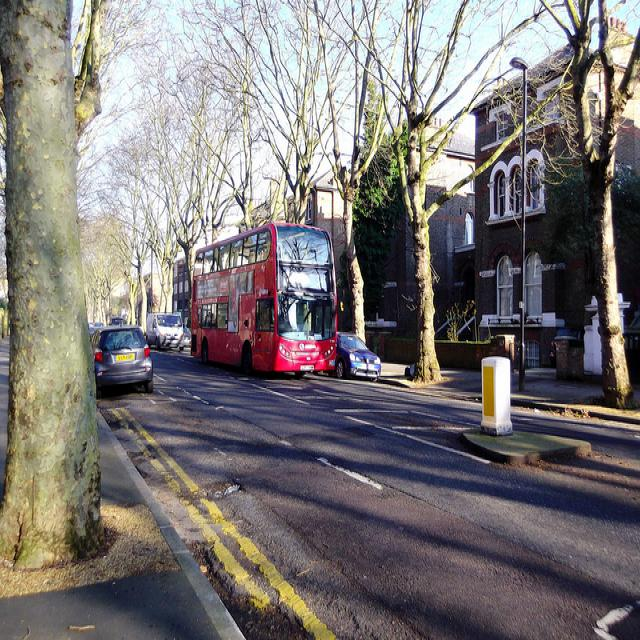Vehicle: (189, 223, 348, 372), (94, 320, 155, 405), (335, 331, 381, 383), (146, 312, 185, 352), (178, 332, 192, 350), (89, 323, 96, 335)
